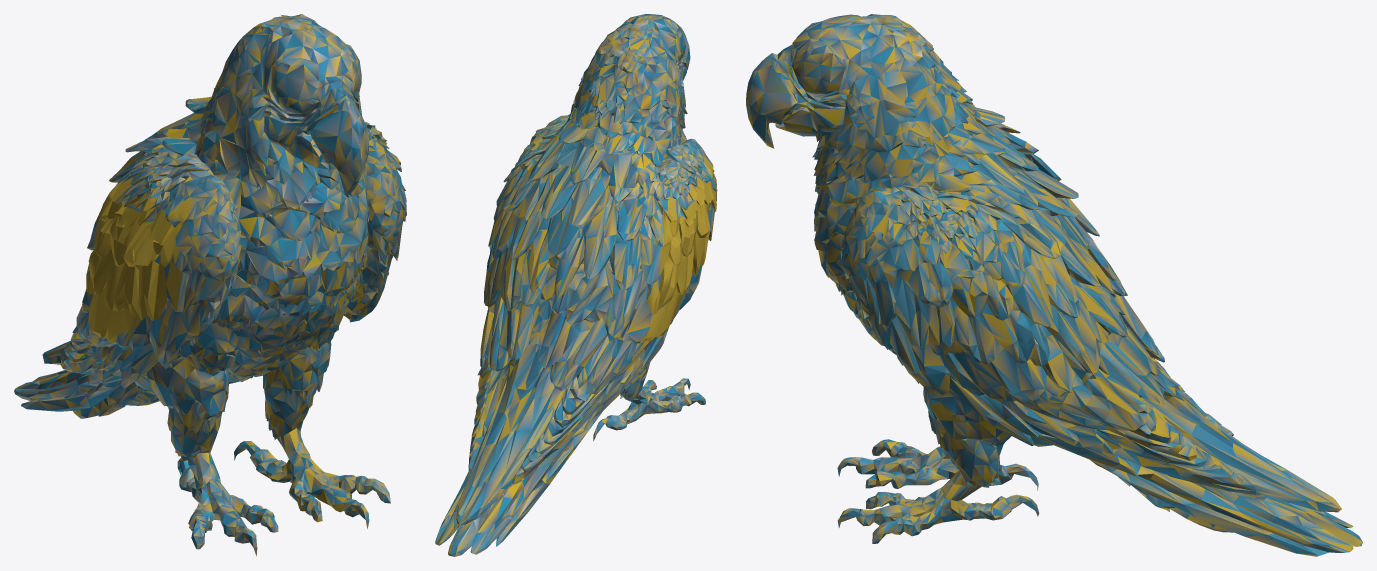
File: parrot_plain_v7.glb
3 renders of one model, left to right at view 1: azimuth 30°, elevation 25°; view 2: azimuth 150°, elevation 25°; view 3: azimuth 270°, elevation 25°, orthographic. The views are drawn at different scales.
Parts seen in each view (by area): view 1: Mesh_0; view 2: Mesh_0; view 3: Mesh_0.
Part boxes in pixels (x1,y1,x2,y2): Mesh_0: [14, 14, 406, 556]; Mesh_0: [435, 14, 717, 556]; Mesh_0: [746, 14, 1362, 556].
Bounding box in the file's own units: 0.1607 × 0.32 × 0.3403.
